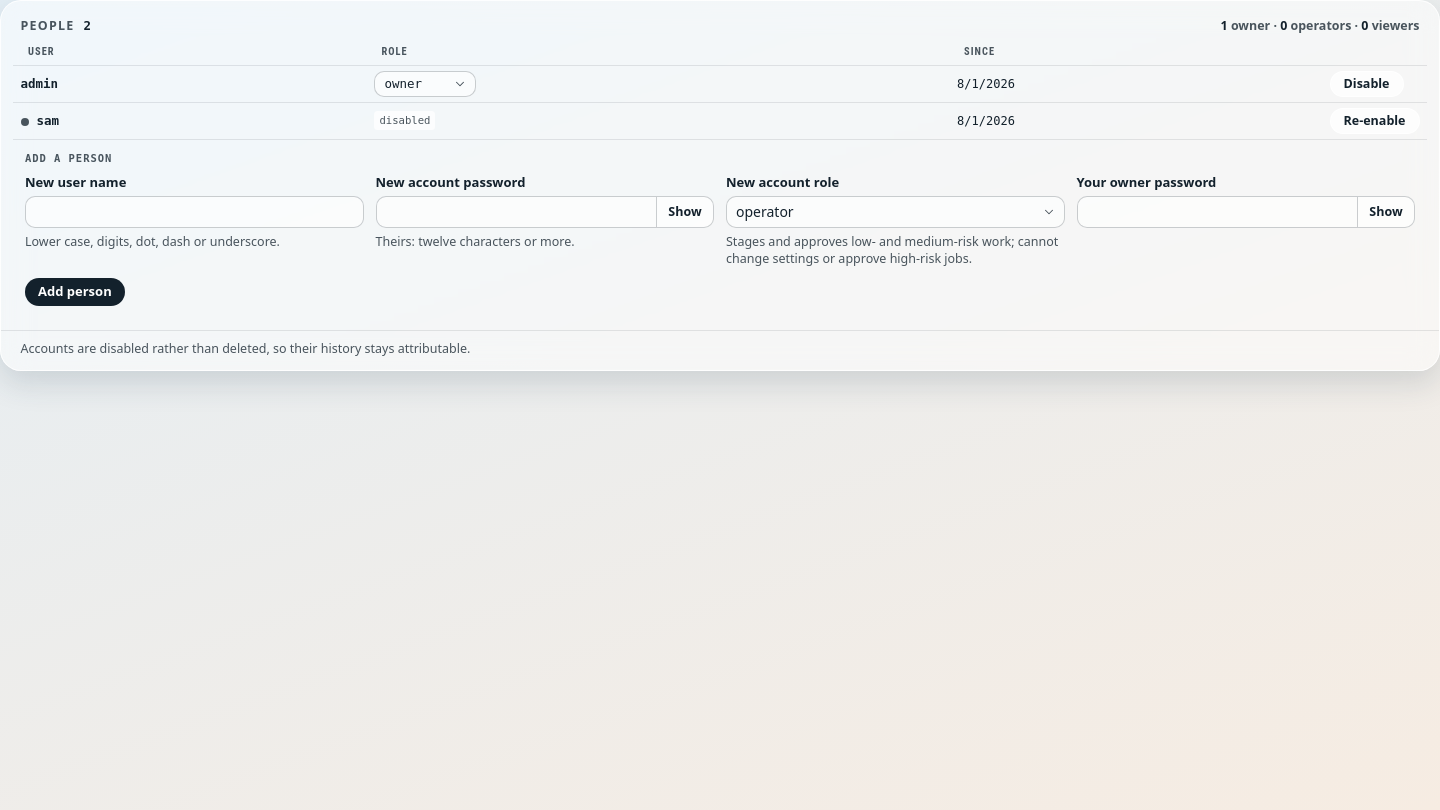
it: people settings › re-enables a disabled account in the role chosen, with the owner's password
The width and height of the screenshot is (1440, 810).
Click the button with aria-label "Re-enable sam" at (1375, 121), box top-left (1330, 108), bottom-right (1420, 134)
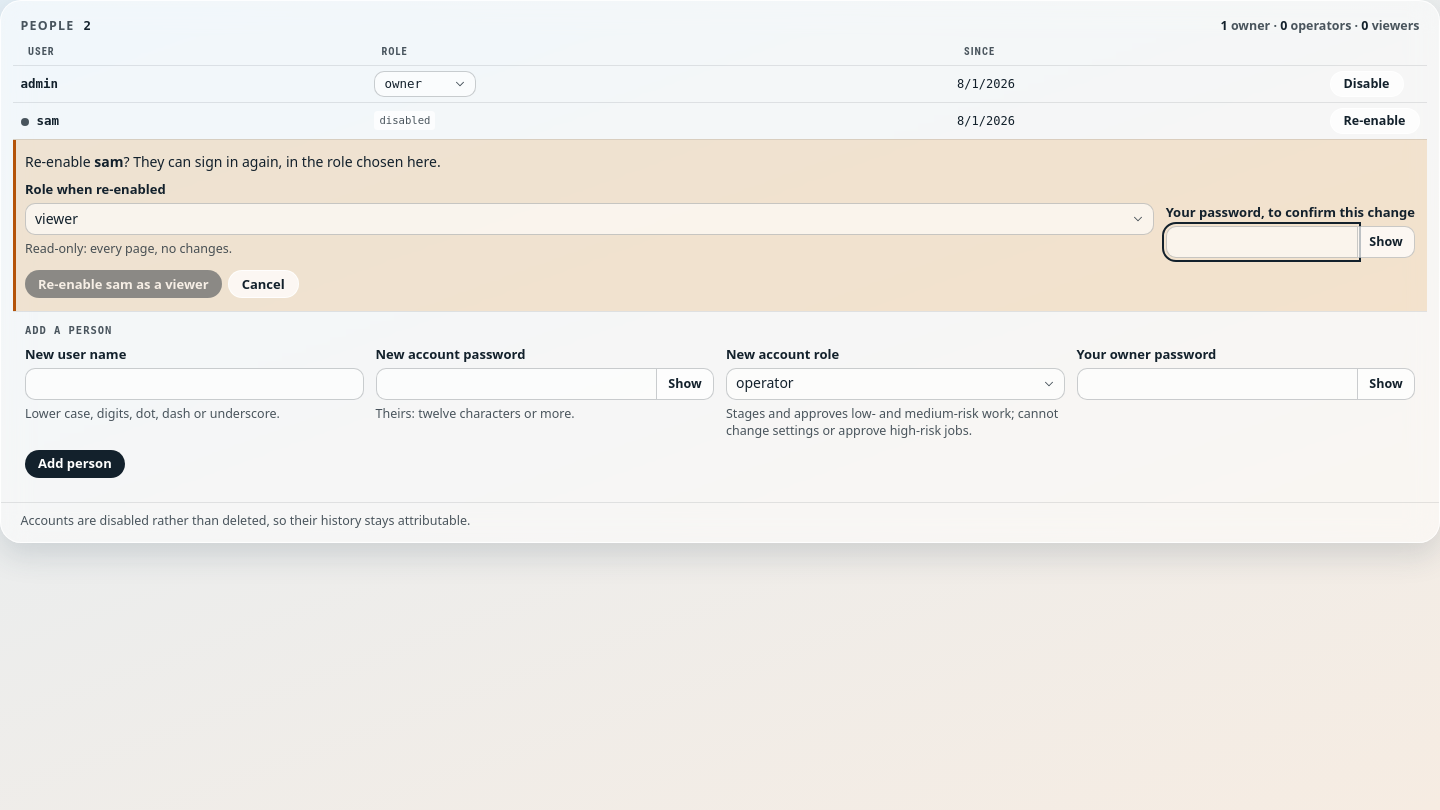
Check: the text "Re-enable" is shown, box top-left (25, 152), bottom-right (94, 171)
Select "operator" in the dropdown labelled "Role when re-enabled" at (589, 219), box top-left (25, 203), bottom-right (1154, 235)
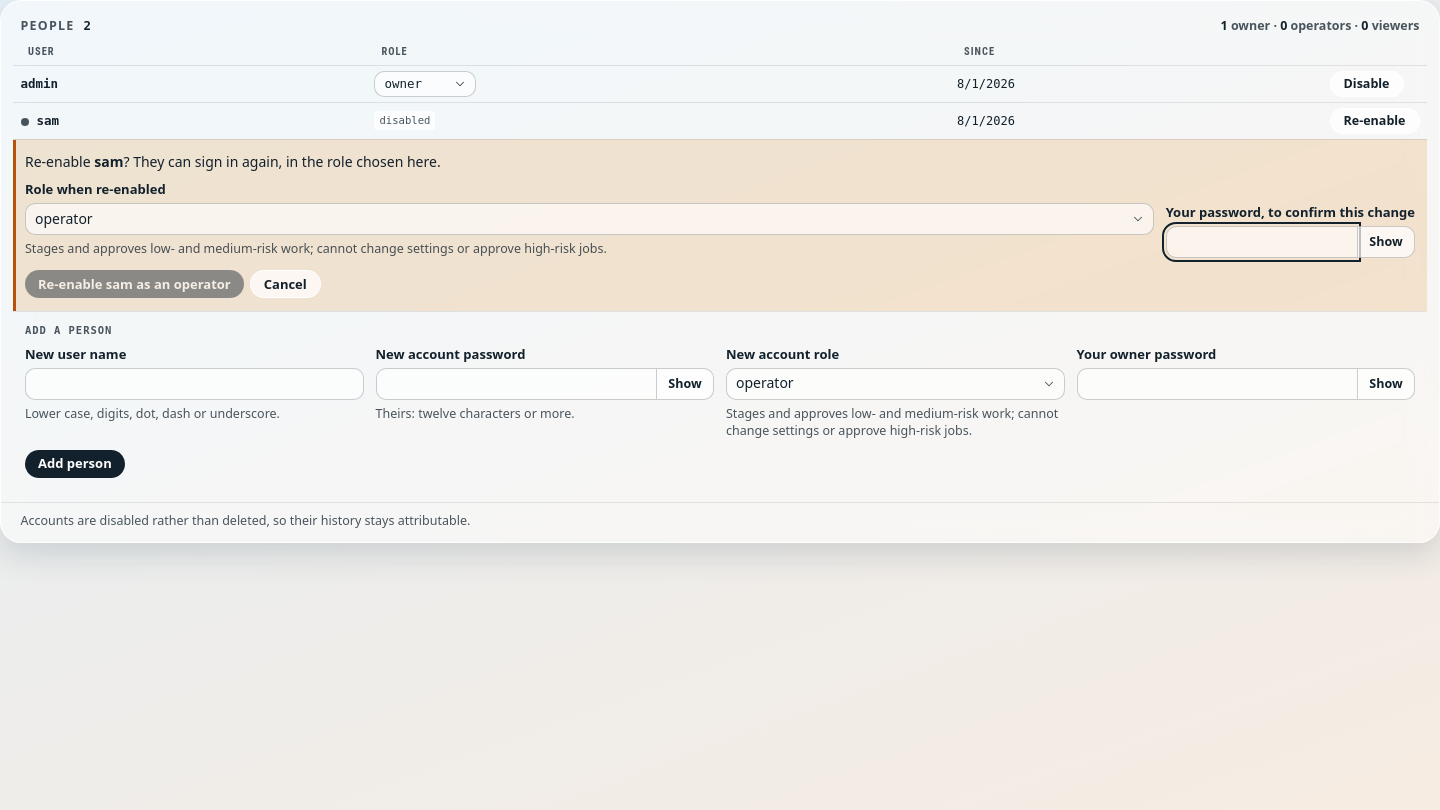
Type "owner-secret" into the password field labelled "Your password, to confirm this change" at (1261, 242), box top-left (1166, 226), bottom-right (1357, 258)
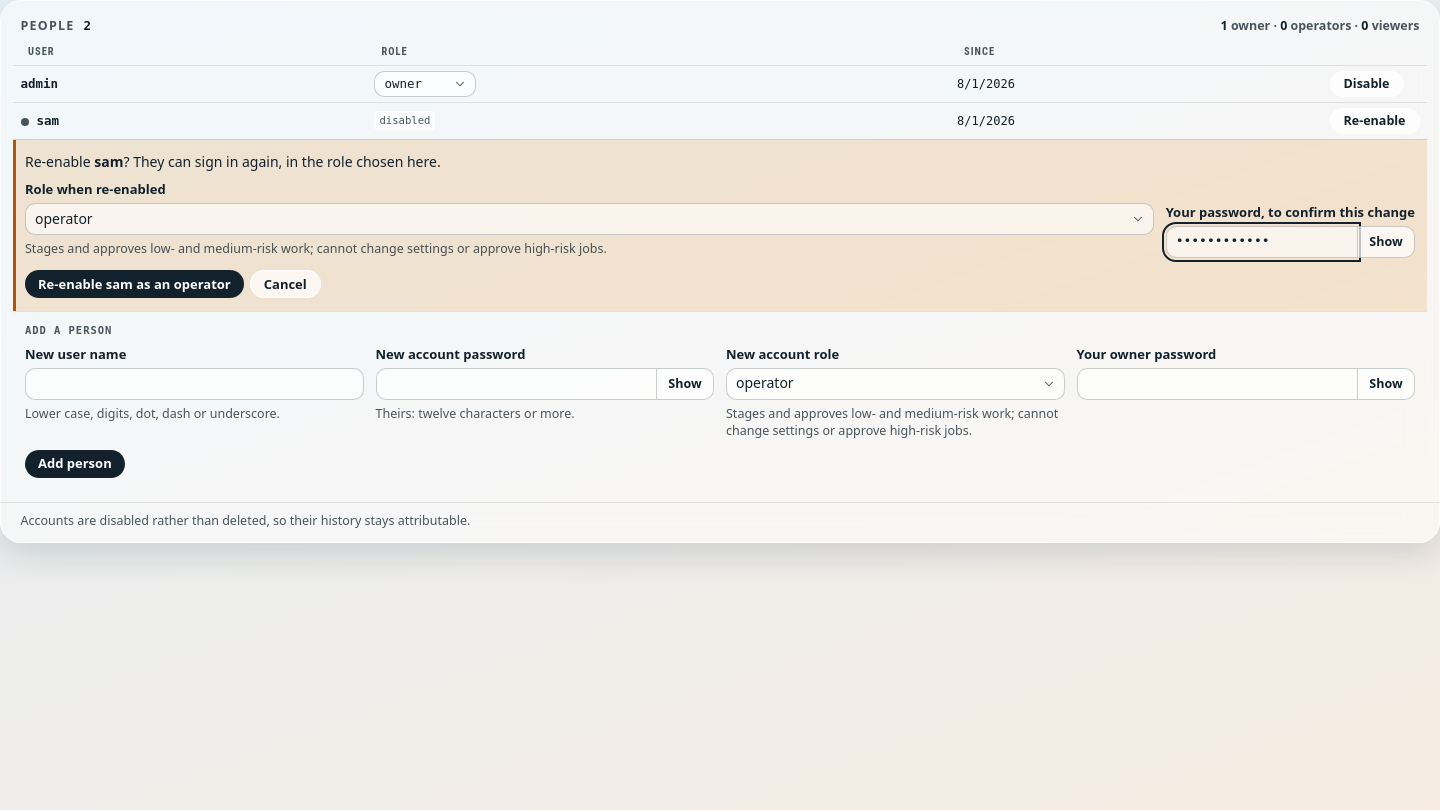
Click the button "Re-enable sam as an operator" at (134, 284), box top-left (25, 270), bottom-right (244, 298)
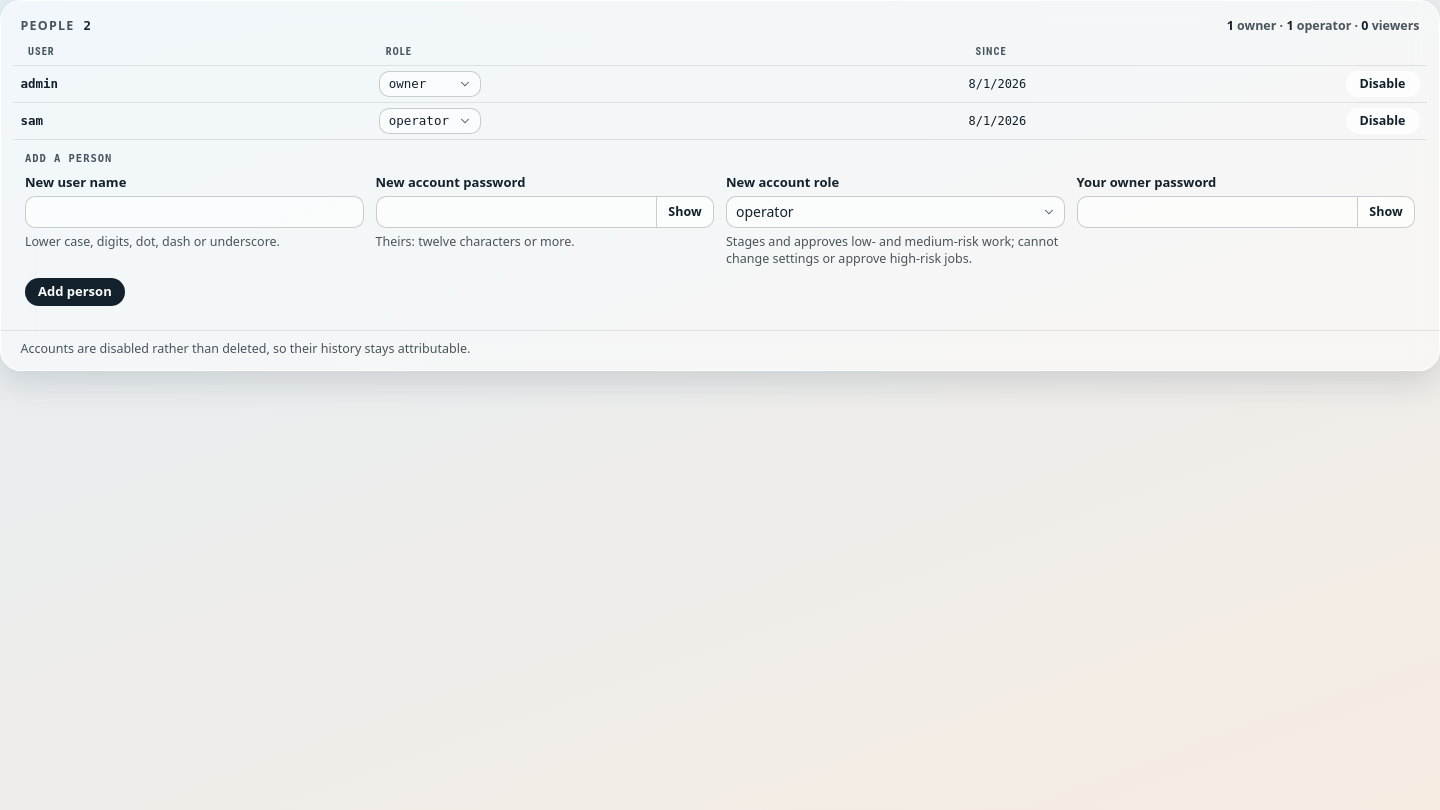
Check: the dropdown named "Role for sam" is shown, box top-left (379, 108), bottom-right (481, 134)
